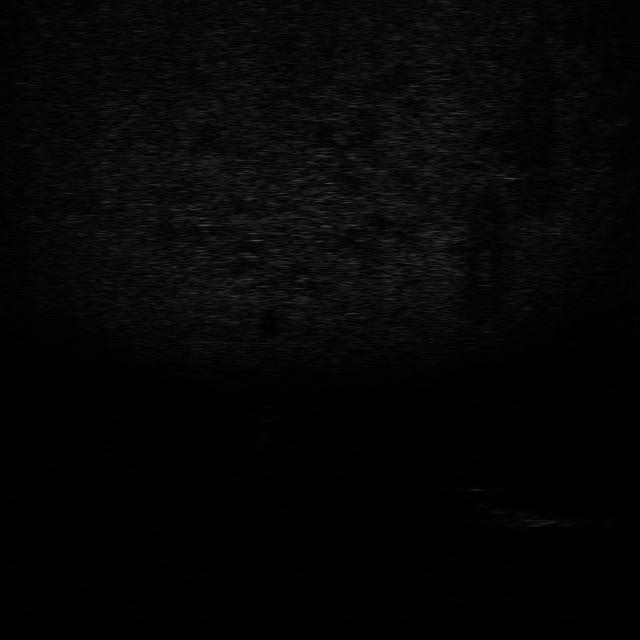ball: (247, 403, 285, 423)
metal bucket: (505, 505, 571, 534)
tyre: (461, 483, 514, 516)
